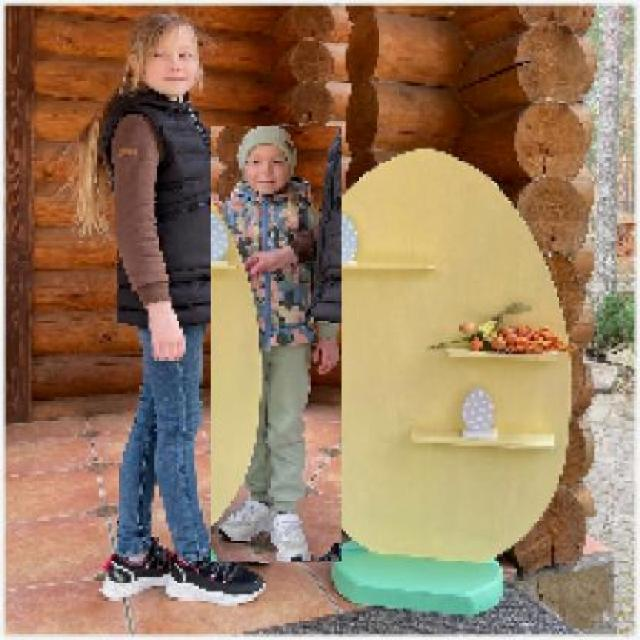child: (209, 126, 342, 563)
